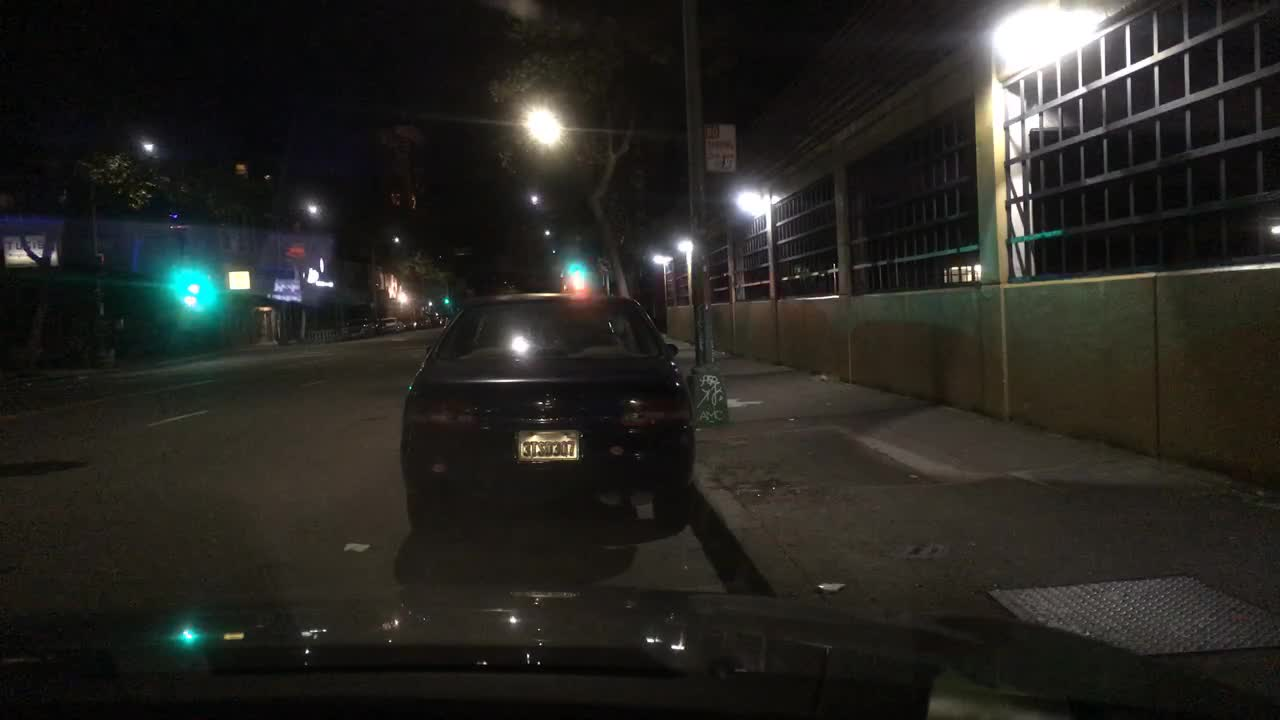car: (398, 289, 697, 536), (348, 313, 377, 330), (381, 318, 403, 330), (400, 318, 418, 329), (413, 318, 431, 327), (432, 318, 445, 327)
traffic sign: (703, 123, 736, 175)
